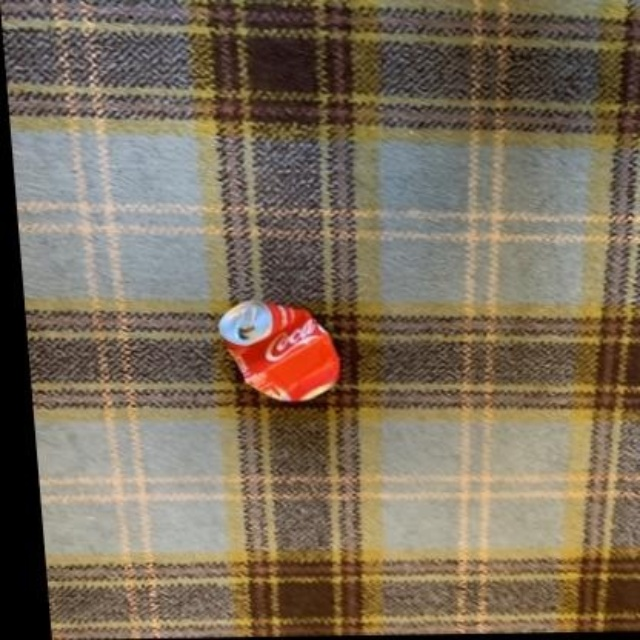trash: (218, 300, 338, 400)
